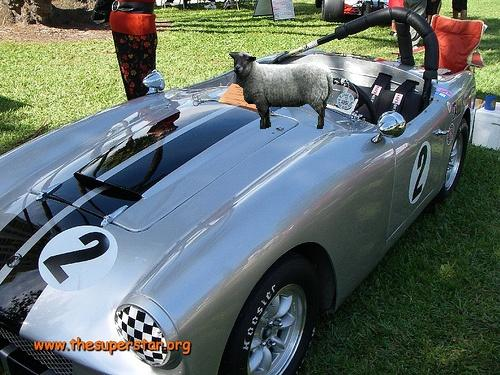tampered: (228, 52, 333, 129)
